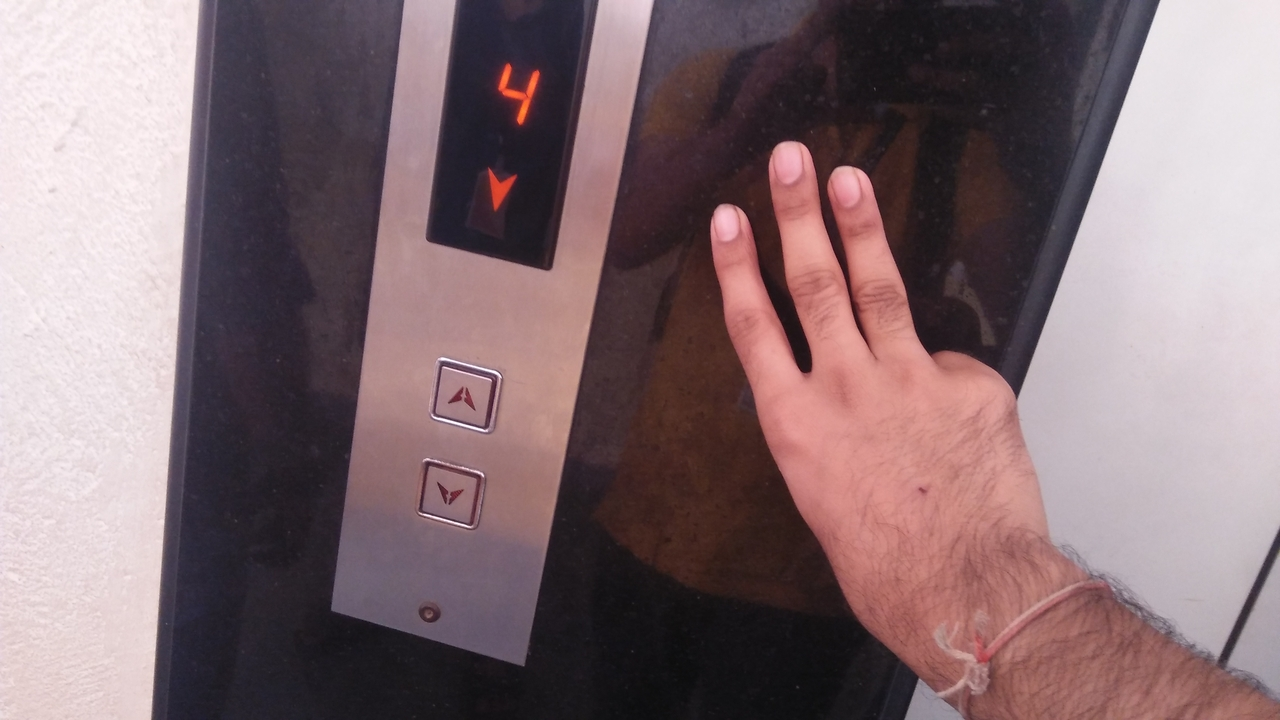fingertip: (824, 154, 888, 218), (764, 136, 828, 198), (704, 194, 762, 252)
